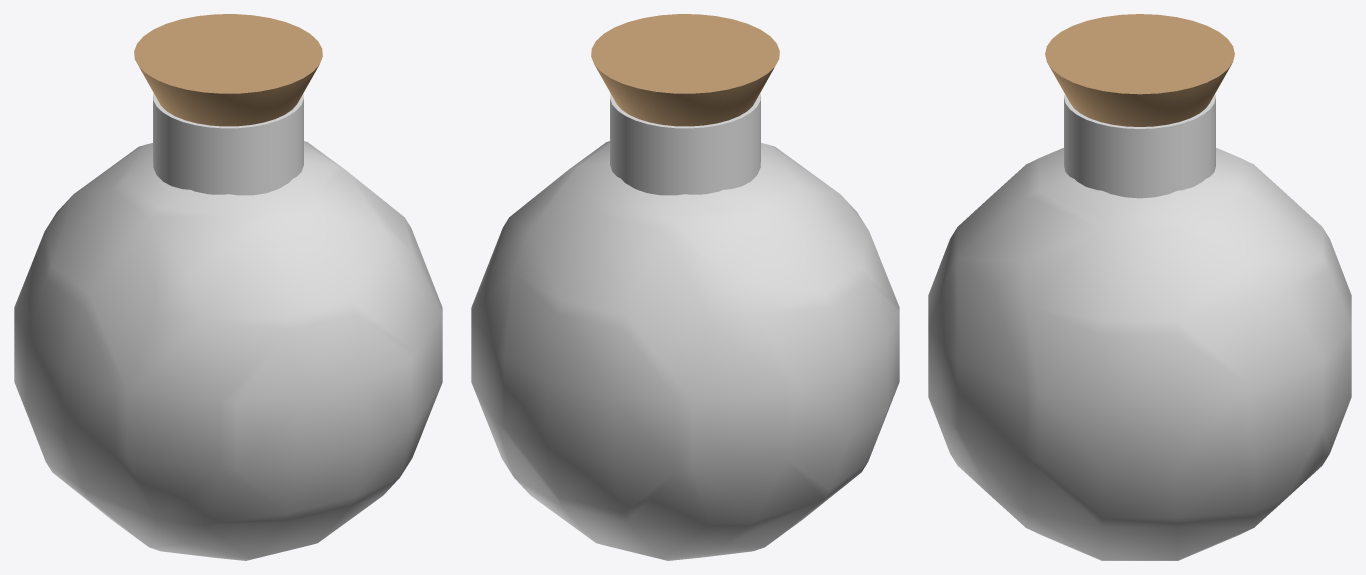
The model's file is potion.fbx.
The picture shows the model from 3 angles, left to right: view 1: azimuth 30°, elevation 25°; view 2: azimuth 150°, elevation 25°; view 3: azimuth 270°, elevation 25°; orthographic projection.
Parts seen in each view (by area): view 1: BottleBase, Cork, BottleNeck; view 2: BottleBase, Cork, BottleNeck; view 3: BottleBase, Cork, BottleNeck.
Boxes of the visible parts, <box> form: BottleBase: <box>14,141,442,560</box>; Cork: <box>134,14,322,126</box>; BottleNeck: <box>153,93,303,195</box>; BottleBase: <box>471,141,899,560</box>; Cork: <box>591,14,779,126</box>; BottleNeck: <box>610,93,760,195</box>; BottleBase: <box>928,148,1351,560</box>; Cork: <box>1045,14,1234,126</box>; BottleNeck: <box>1064,94,1215,198</box>.
Size of the model in its own units: 446 by 562 by 446.
